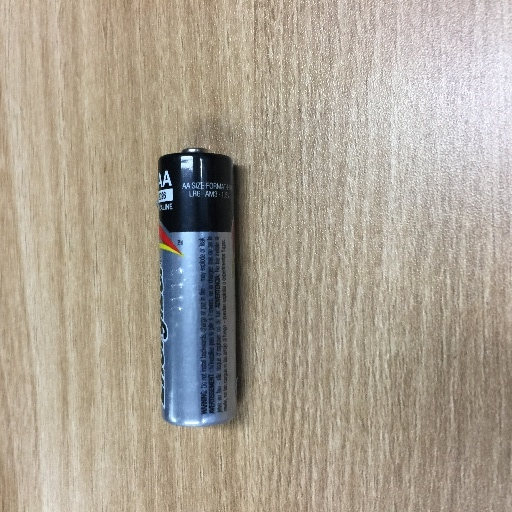Battery_0: (145, 134, 267, 441)
